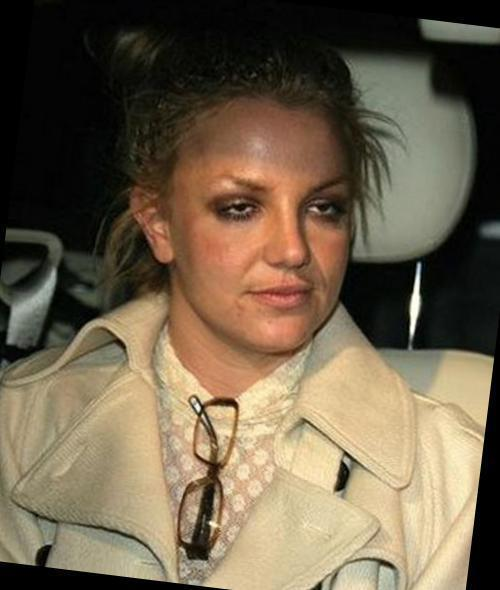Drunk: (187, 107, 345, 344)
